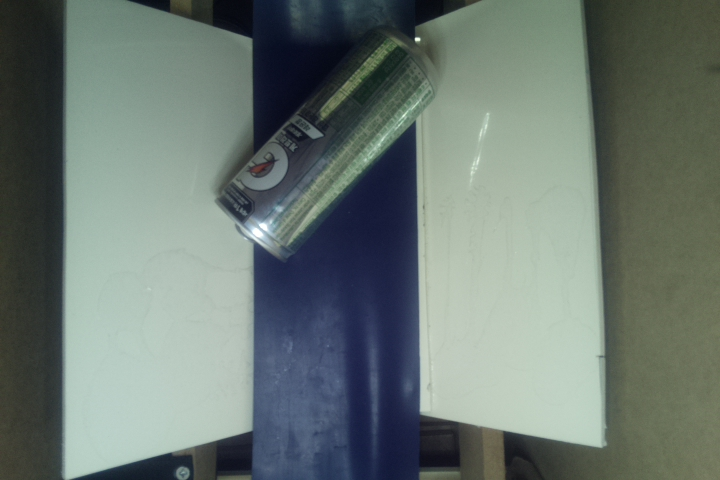can: (208, 26, 445, 269)
